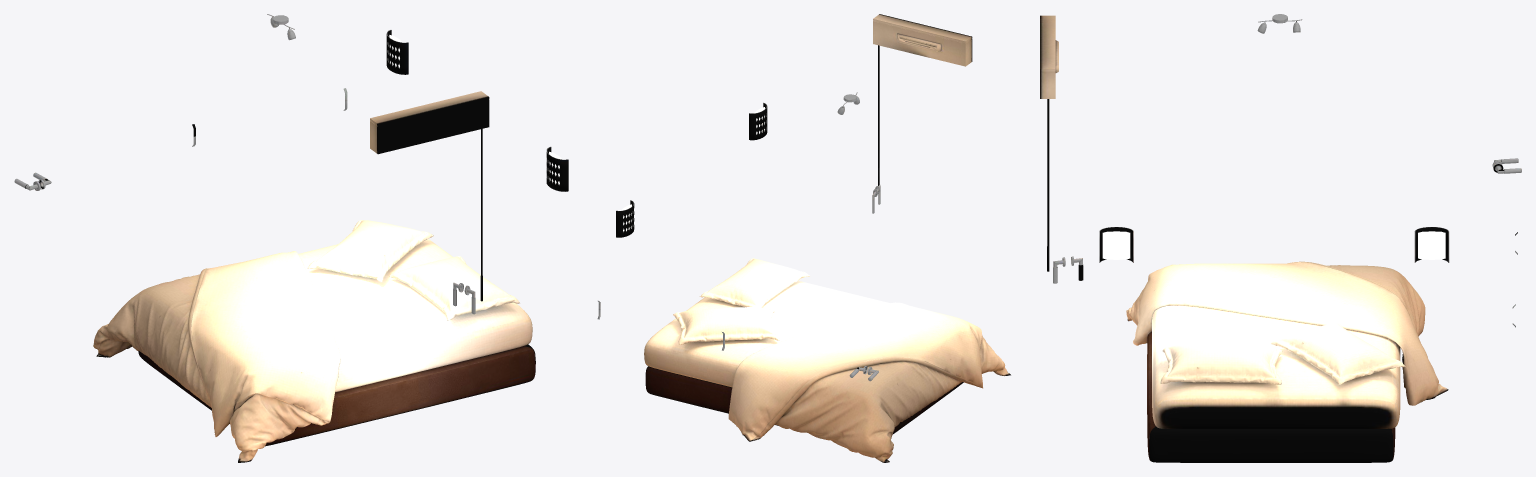
File: SM_BigR_F0.glb
The picture shows the model from 3 angles, left to right: view 1: azimuth 30°, elevation 25°; view 2: azimuth 150°, elevation 25°; view 3: azimuth 270°, elevation 25°; orthographic projection. The views are drawn at different scales.
Parts seen in each view (by area): view 1: SM_BigR_F0; view 2: SM_BigR_F0; view 3: SM_BigR_F0.
Part boxes in pixels (x1,y1,x2,y2): SM_BigR_F0: [14, 14, 568, 462]; SM_BigR_F0: [597, 14, 1010, 462]; SM_BigR_F0: [1040, 14, 1521, 462].
Size of the model in its own units: 2.47 by 2.49 by 3.05.
1 material, 1 textured.
